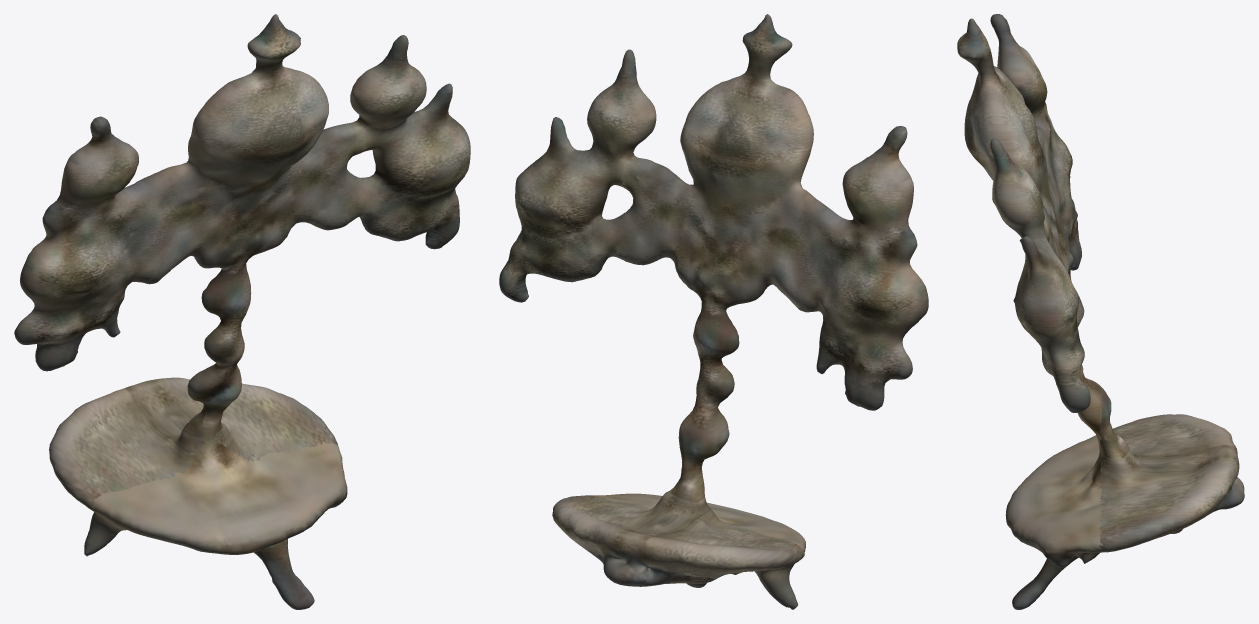
Rendered from kfl-2296.glb.
3 renders of one model, left to right at view 1: azimuth 30°, elevation 25°; view 2: azimuth 150°, elevation 25°; view 3: azimuth 270°, elevation 25°, orthographic. The views are drawn at different scales.
Parts seen in each view (by area): view 1: geometry_0; view 2: geometry_0; view 3: geometry_0.
Boxes of the visible parts, box(x1,y1,x2,y2) form: geometry_0: box(14, 14, 470, 609); geometry_0: box(499, 14, 928, 609); geometry_0: box(957, 14, 1244, 609).
Bounding box in the file's own units: 0.7473 × 0.9869 × 0.4536.
Materials: 1 (1 with a texture image).
